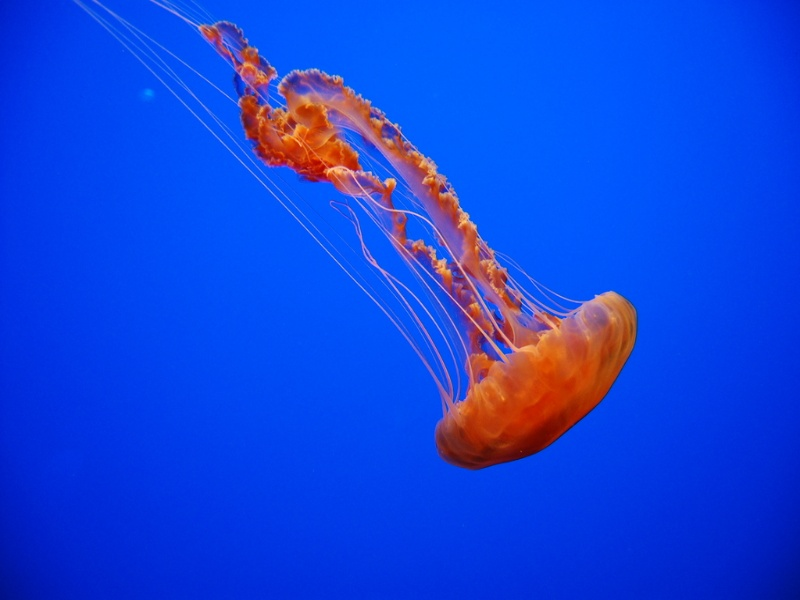Jellyfish: (73, 0, 637, 470)
